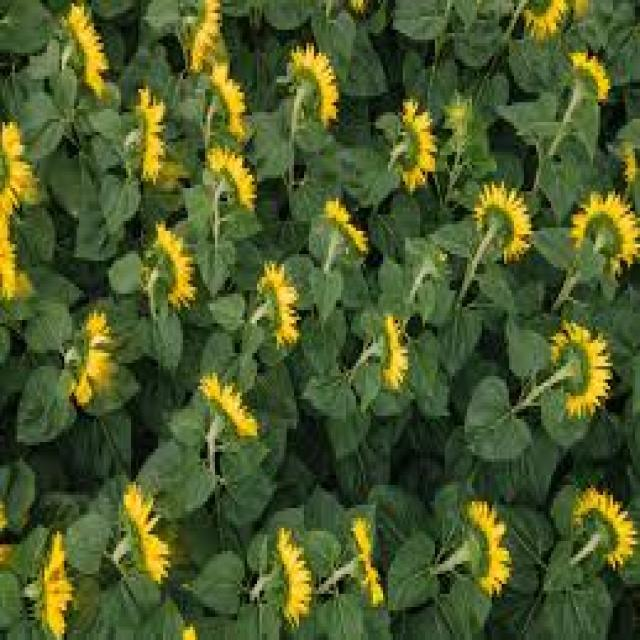sunflower: (568, 188, 638, 277), (552, 320, 613, 420), (571, 485, 635, 571), (121, 478, 171, 584), (140, 220, 196, 310), (464, 498, 512, 597), (60, 0, 109, 96), (475, 180, 532, 262), (390, 96, 438, 192), (70, 312, 113, 410), (274, 524, 312, 627), (290, 44, 338, 125), (40, 530, 74, 636), (198, 372, 257, 432), (260, 258, 299, 346), (175, 0, 222, 73), (131, 84, 166, 182), (0, 204, 35, 300), (0, 118, 35, 212), (348, 514, 383, 608), (205, 146, 257, 208), (208, 60, 248, 138), (318, 194, 368, 254), (378, 314, 408, 389), (570, 52, 610, 99), (522, 0, 568, 40), (0, 498, 25, 570), (623, 147, 640, 179)
